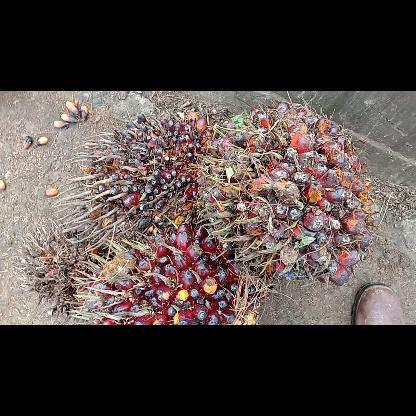TBS abnormal: (57, 110, 215, 236), (17, 217, 112, 321)
TBS masak: (192, 99, 376, 289), (64, 228, 266, 324)
